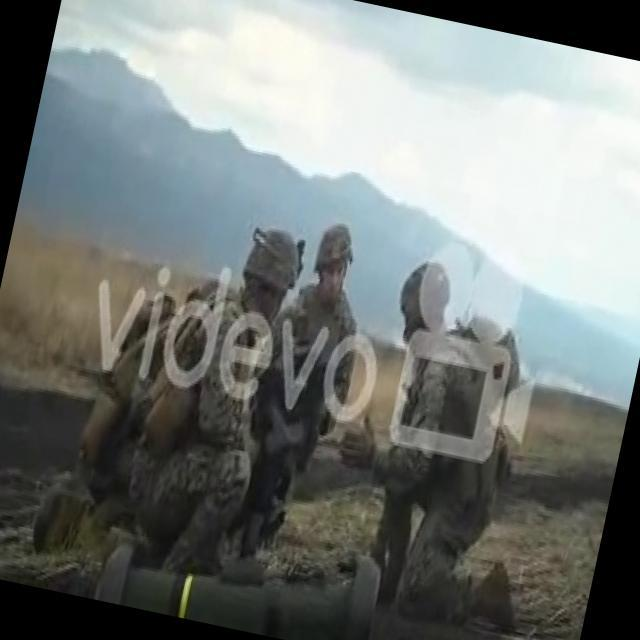rocket: (96, 503, 383, 640)
